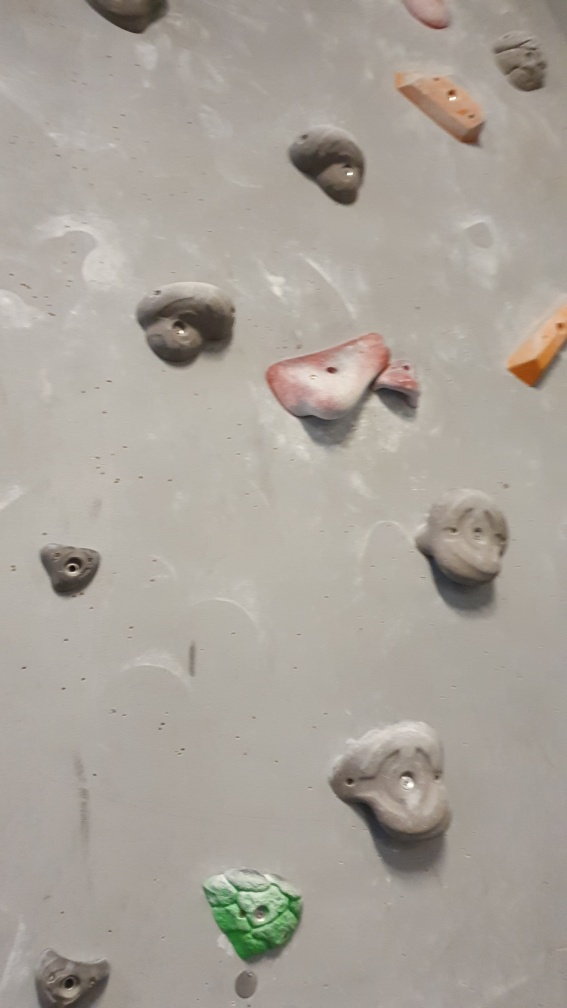Crimp: (35, 539, 104, 598)
Hand Start: (230, 964, 272, 1007)
Jug: (324, 715, 458, 845), (403, 482, 515, 592), (130, 276, 240, 371), (285, 119, 371, 210)
Pinch: (391, 64, 489, 145), (503, 294, 567, 392)
